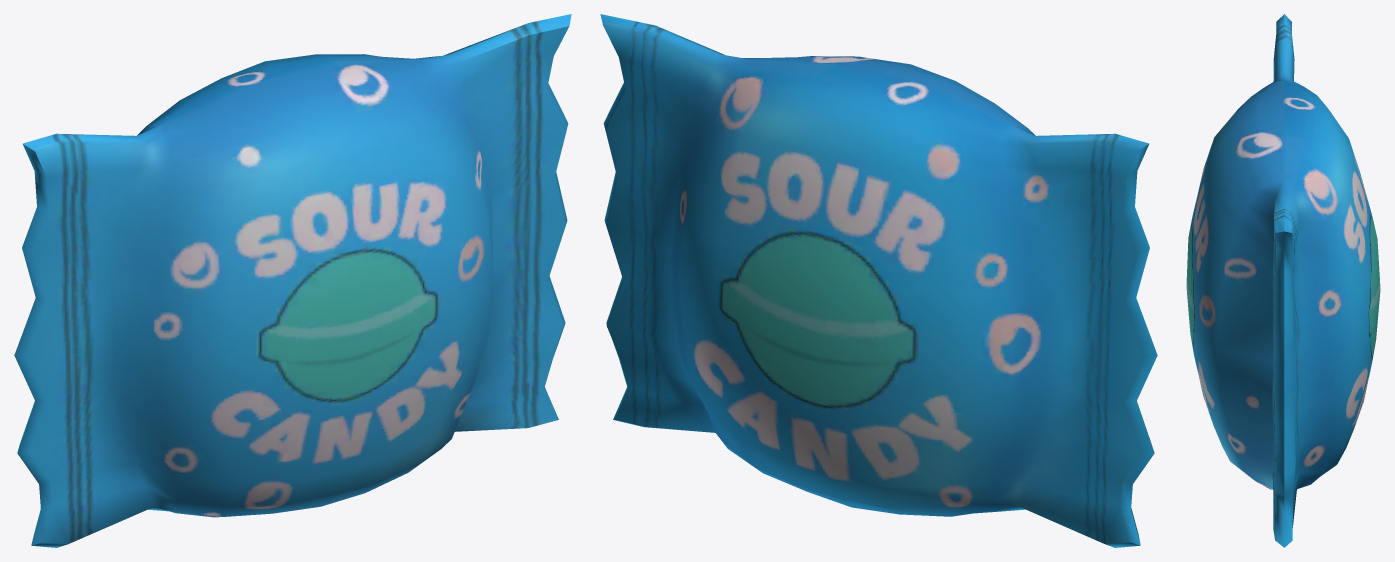
The model's file is 0-gum_blue.fbx.
3 renders of one model, left to right at view 1: azimuth 30°, elevation 25°; view 2: azimuth 150°, elevation 25°; view 3: azimuth 270°, elevation 25°, orthographic. The views are drawn at different scales.
Parts seen in each view (by area): view 1: 0-gum_blue; view 2: 0-gum_blue; view 3: 0-gum_blue.
Boxes of the visible parts, box(x1,y1,x2,y2) form: 0-gum_blue: box(14, 14, 571, 547); 0-gum_blue: box(600, 14, 1157, 547); 0-gum_blue: box(1186, 14, 1380, 547).
Bounding box in the file's own units: 82.24 × 60.02 × 31.06.
